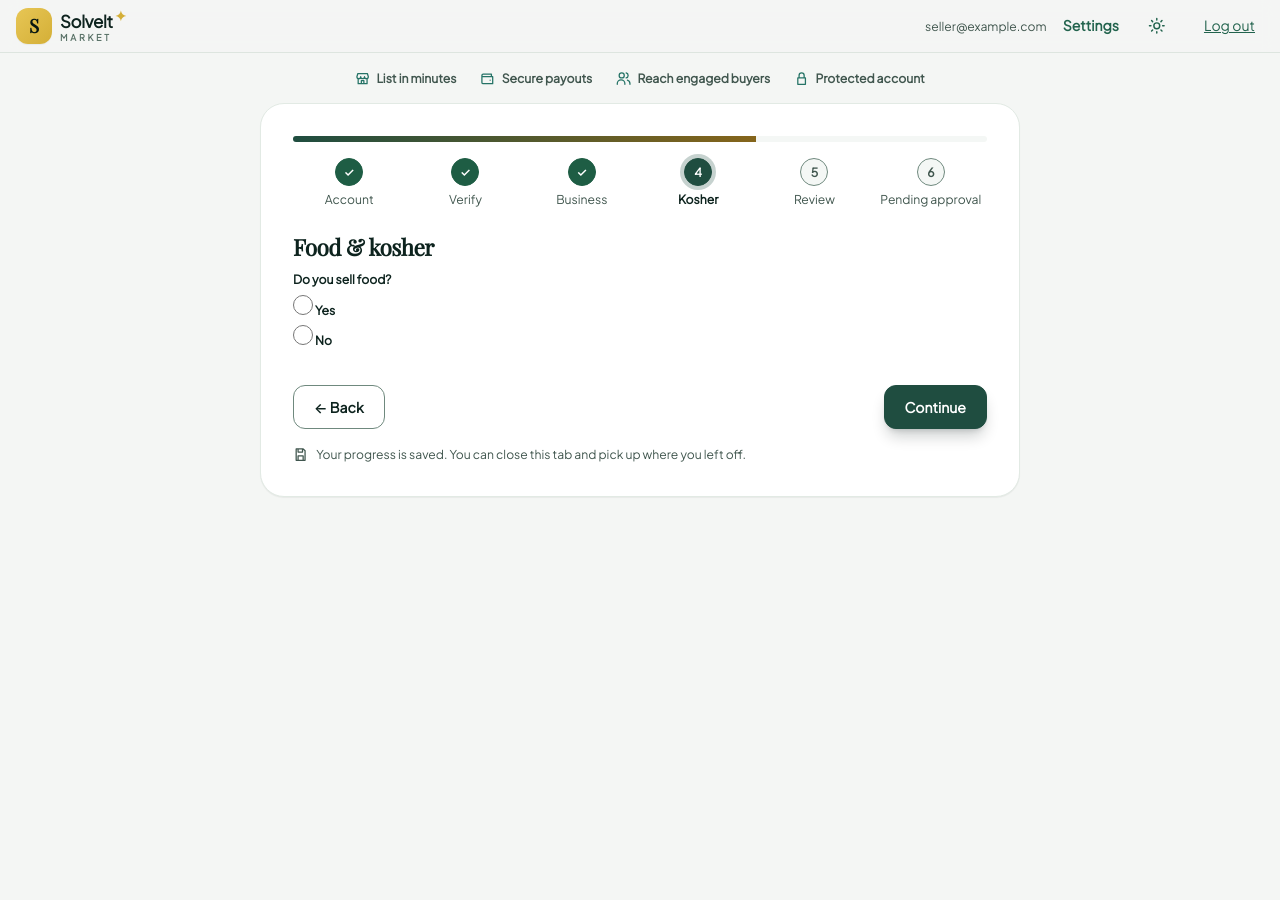
Test: kosher branching (driven by seller_field_config) › hides food questions when "sells food" is No, and kosher agency/certificate when "kosher" is No
This screenshot has width=1280, height=900.
Expected: the text "Is your food kosher?" is not shown
Click the radio button labelled "Yes" at (303, 305), box top-left (293, 295), bottom-right (313, 315)
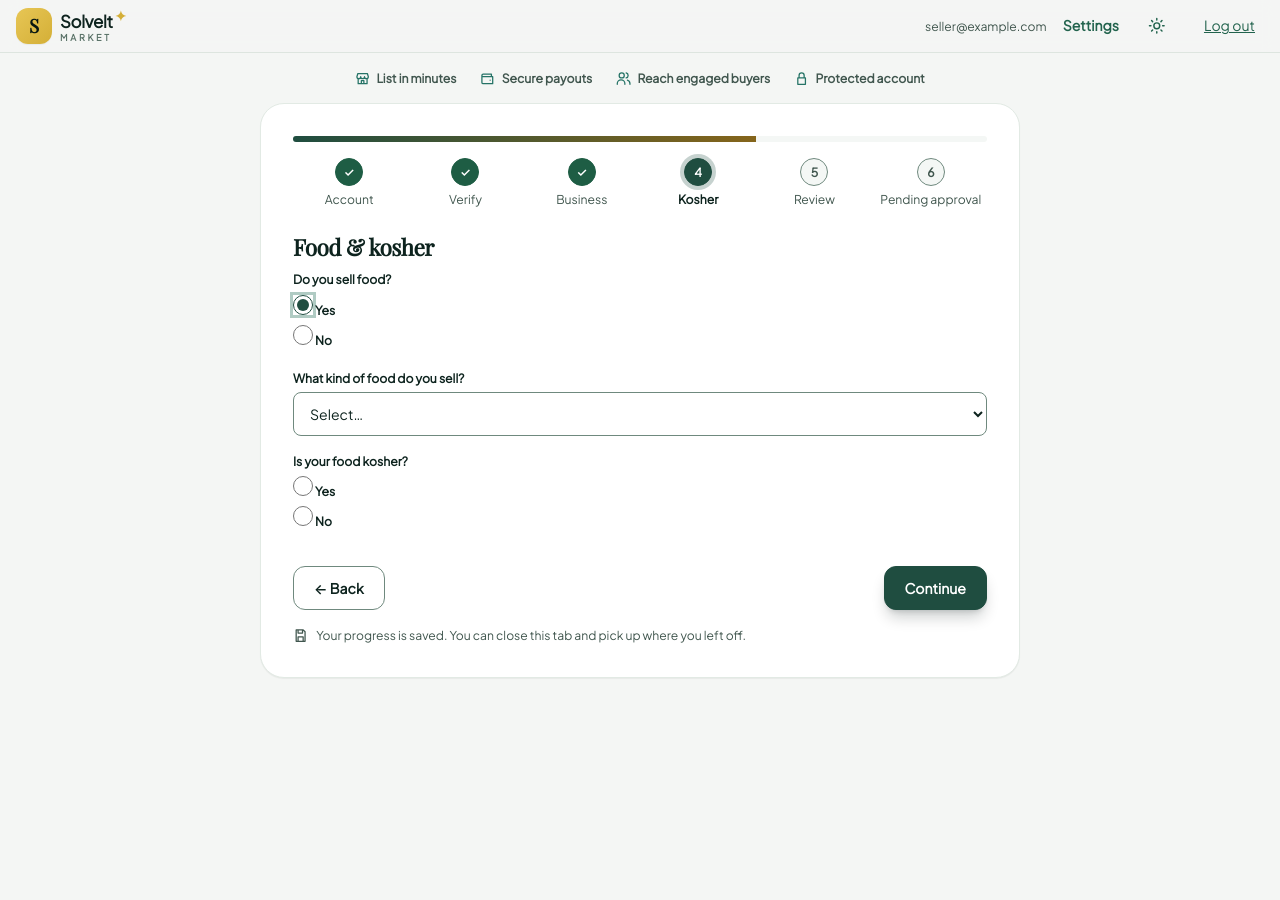
Expected: the text "Kosher certifying agency" is not shown
Expected: the text "What kind of food do you sell?" is shown, top-left (293, 370), bottom-right (464, 386)
Click the radio button labelled "Yes" below "Is your food kosher?" at (303, 486), box top-left (293, 476), bottom-right (313, 496)
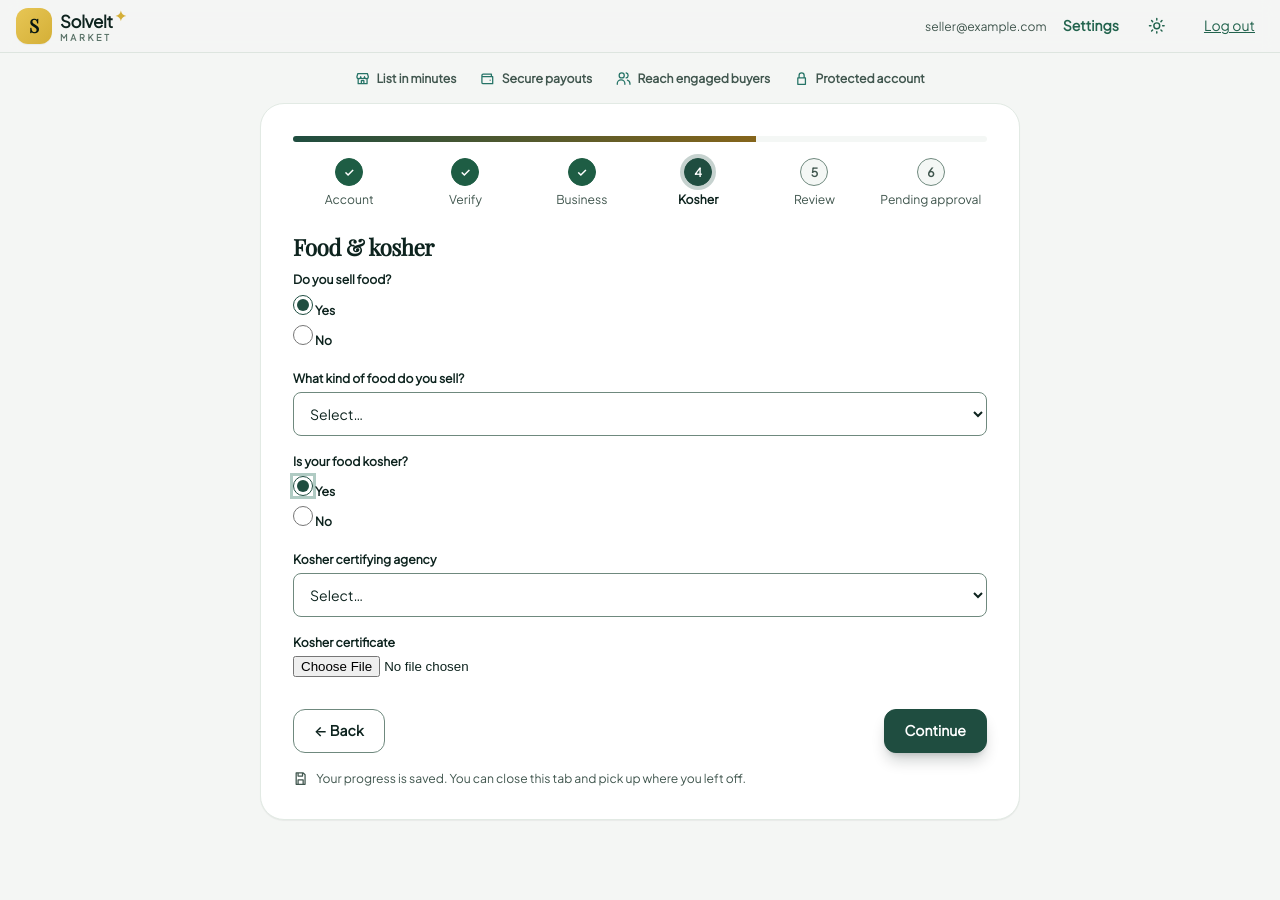
Expected: the text "Kosher certifying agency" is shown, top-left (293, 552), bottom-right (436, 568)
Expected: the text "Kosher certificate" is shown, top-left (293, 634), bottom-right (395, 650)
Click the radio button labelled "No" below "Is your food kosher?" at (303, 516), box top-left (293, 506), bottom-right (313, 526)
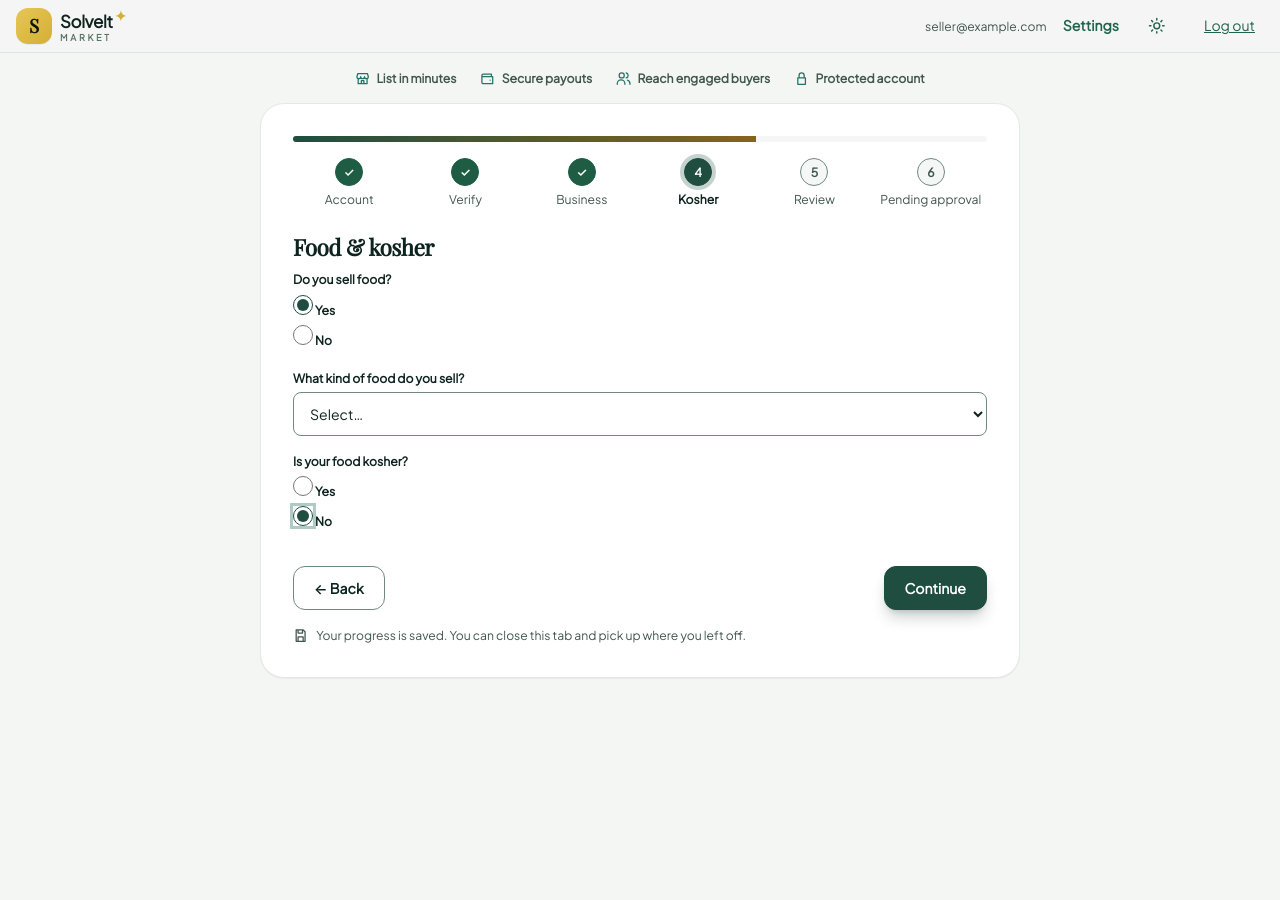
Expected: the text "What kind of food do you sell?" is shown, top-left (293, 370), bottom-right (464, 386)
Expected: the text "Kosher certifying agency" is gone
Expected: the text "Kosher certificate" is gone
Click the radio button labelled "No" below "Do you sell food?" at (303, 335), box top-left (293, 325), bottom-right (313, 345)
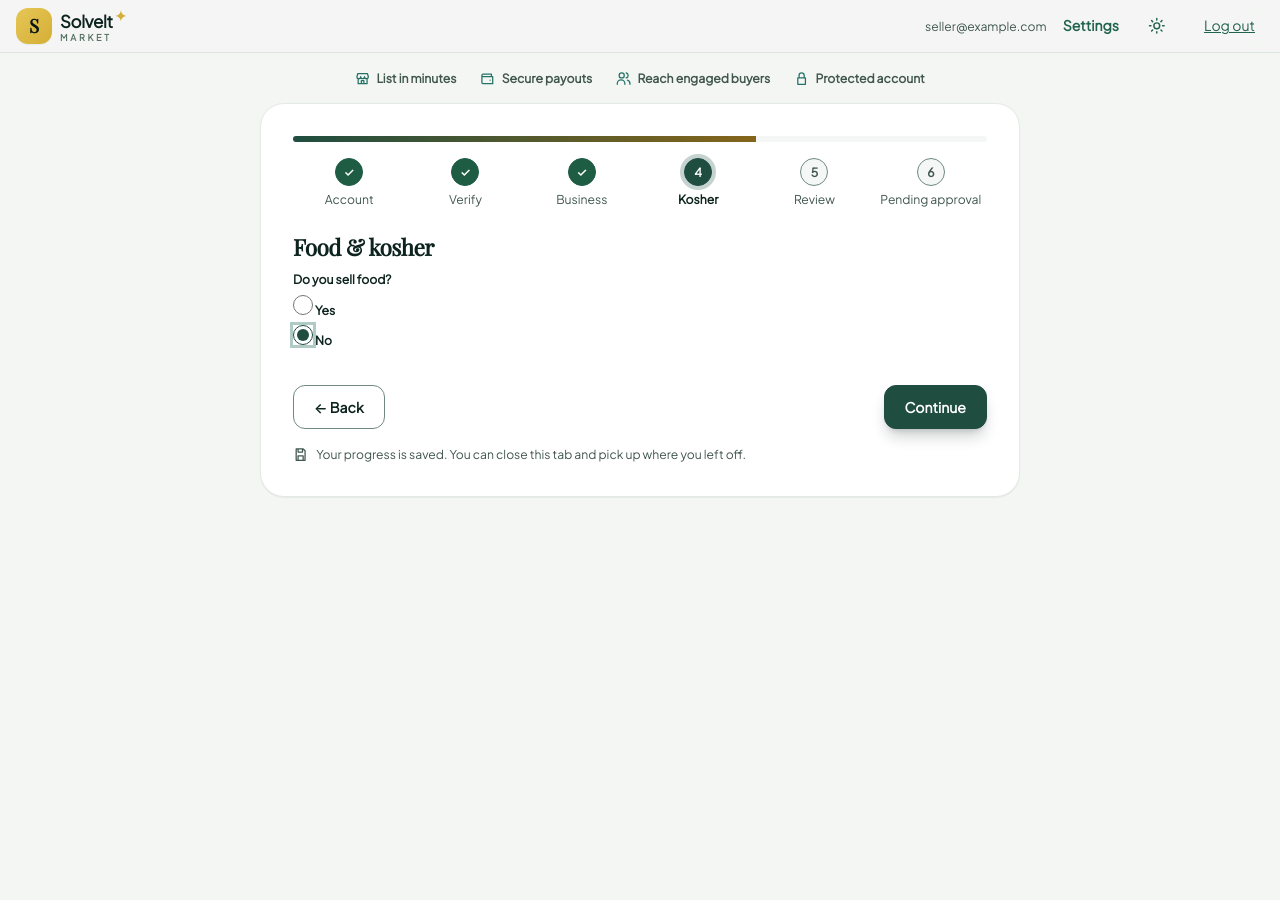
Expected: the text "Is your food kosher?" is gone
Expected: the text "What kind of food do you sell?" is gone
